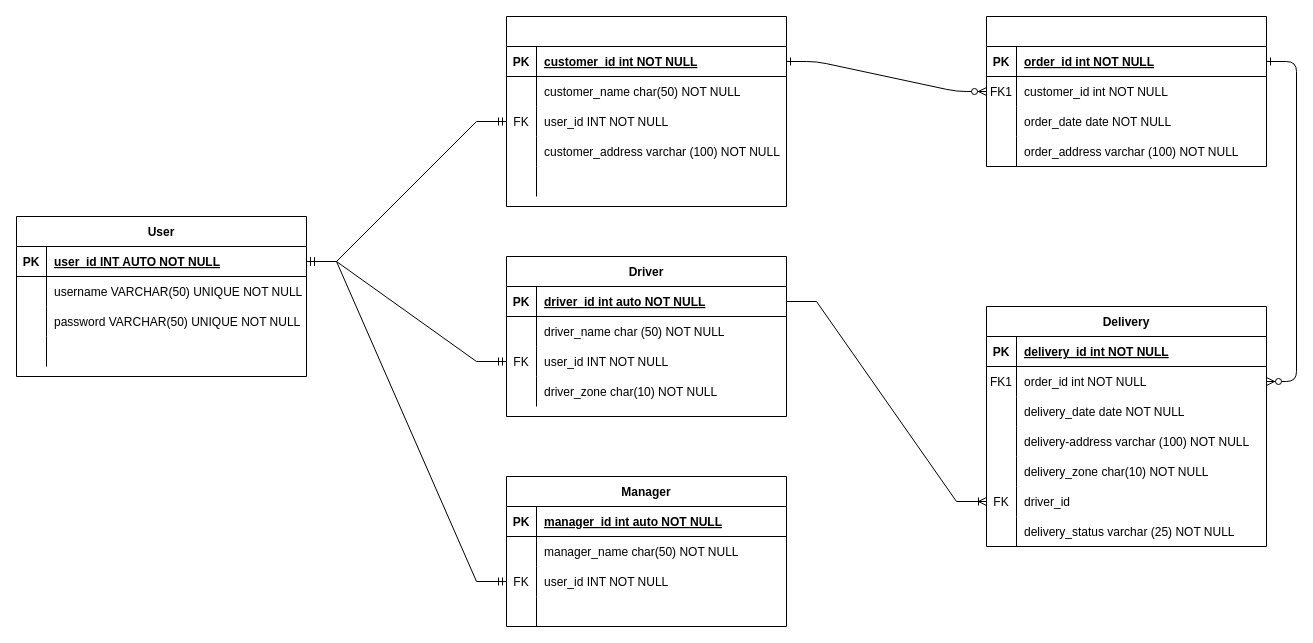
The diagram is 1313 pixels wide and 643 high, and some of its shapes have lost their labels. Each missing label, with the box of its shape:
Customers: (506, 16, 786, 206)
Orders: (986, 16, 1266, 166)
